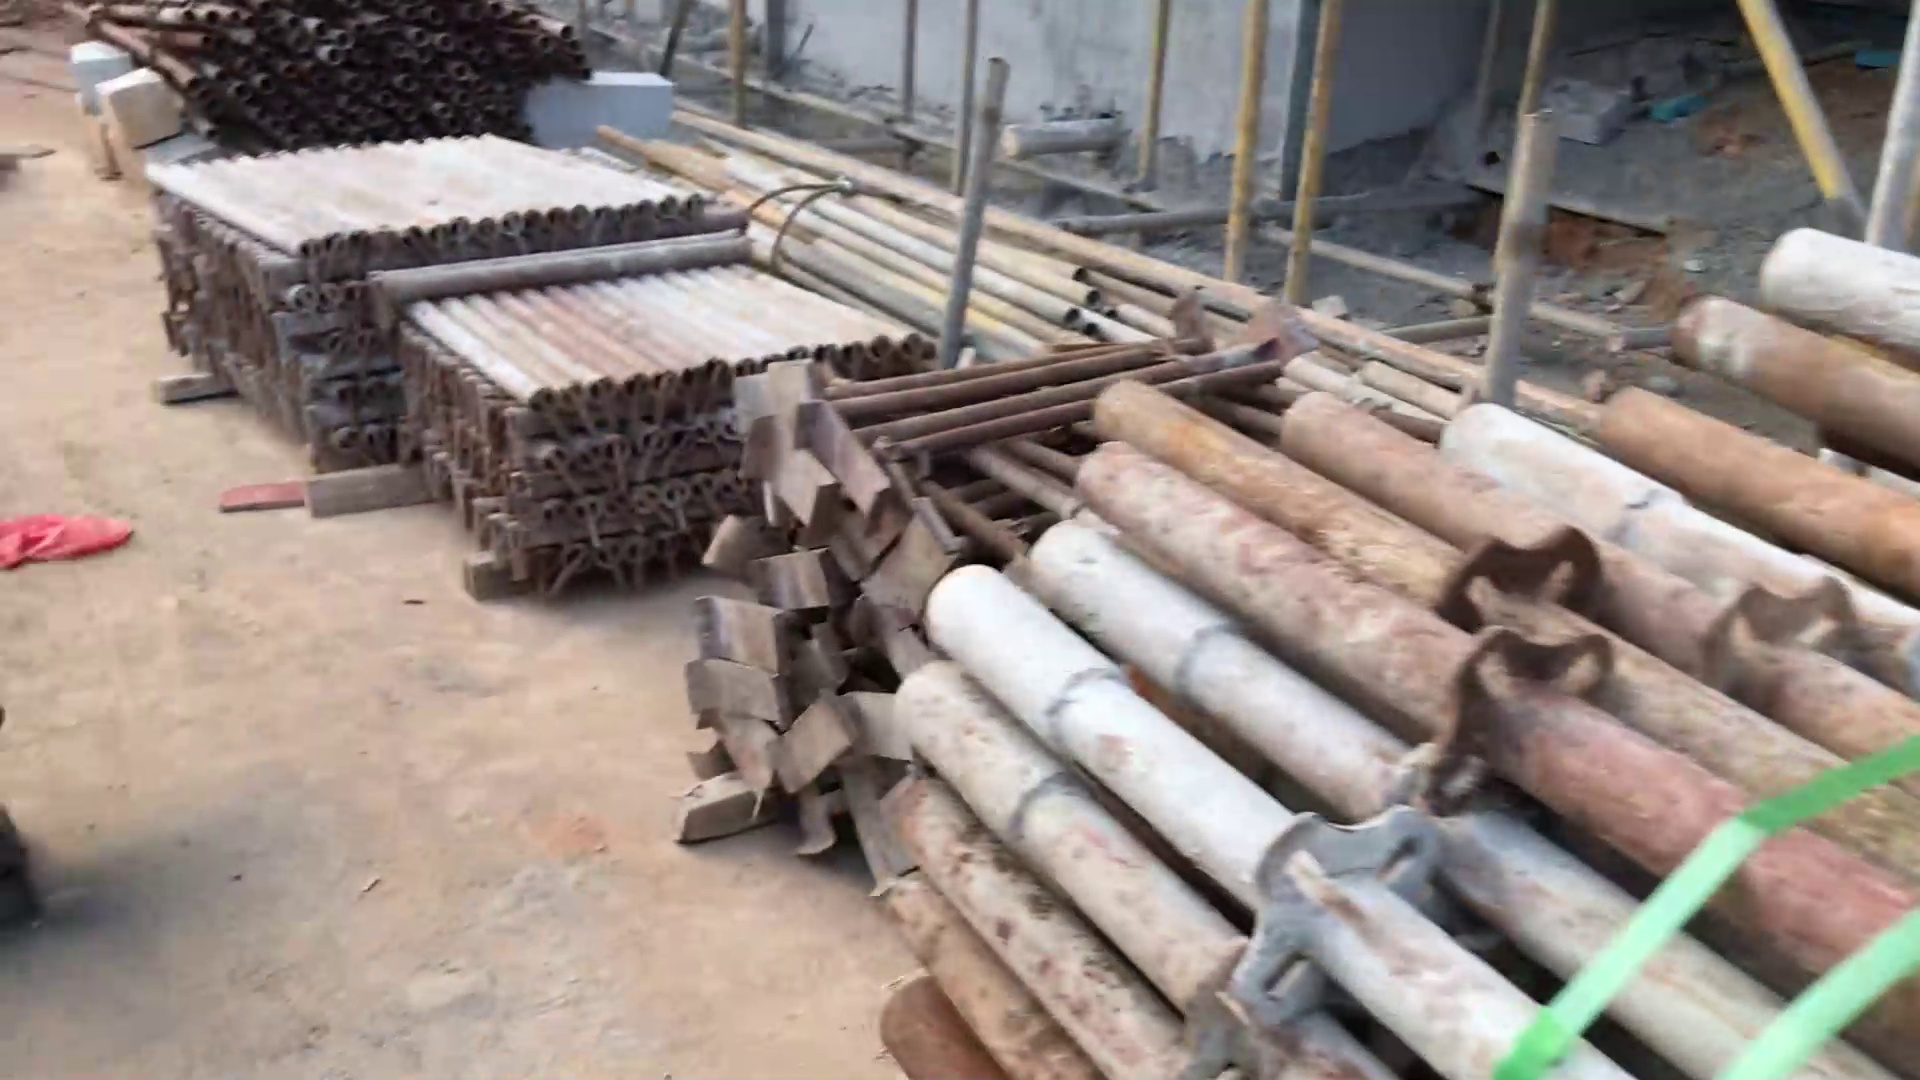scaffold: (874, 212, 1920, 1077), (153, 119, 719, 452), (426, 262, 943, 593)
